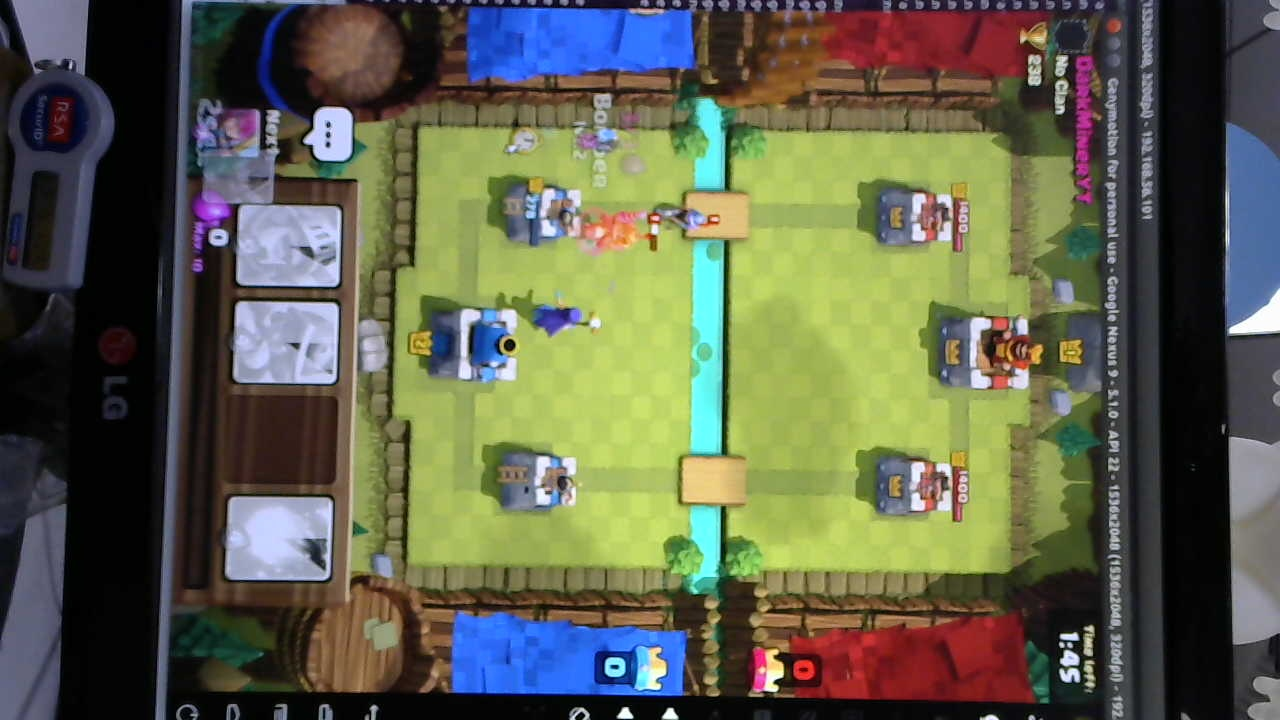arena: (497, 448, 581, 514)
earena: (504, 181, 582, 245), (872, 458, 953, 516), (877, 188, 954, 248)
eking: (929, 311, 1045, 396)
king: (428, 303, 522, 385)
musketeer: (656, 204, 709, 232)
witch: (531, 302, 605, 340)
